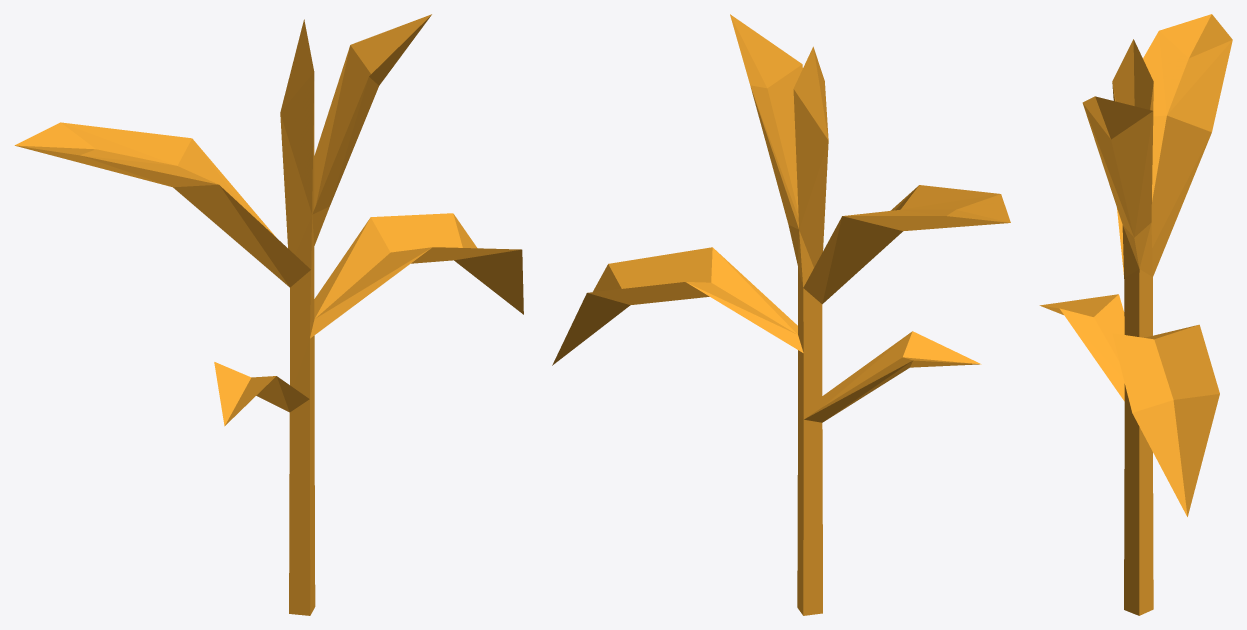
The model's file is SM_Corn_Seedling_A.fbx.
3 views of the same model, side by side, from view 1: azimuth 30°, elevation 25°; view 2: azimuth 150°, elevation 25°; view 3: azimuth 270°, elevation 25° (orthographic). The views are drawn at different scales.
Parts seen in each view (by area): view 1: corn-seedling-a; view 2: corn-seedling-a; view 3: corn-seedling-a.
Boxes of the visible parts, bbox=[...] form: corn-seedling-a: bbox=[14, 14, 523, 615]; corn-seedling-a: bbox=[552, 14, 1010, 615]; corn-seedling-a: bbox=[1039, 14, 1232, 615].
Bounding box in the file's own units: 0.5617 × 0.6411 × 0.1972.
